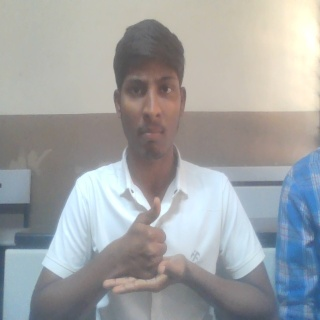Face: (109, 17, 190, 164)
Help: (96, 194, 192, 298)
